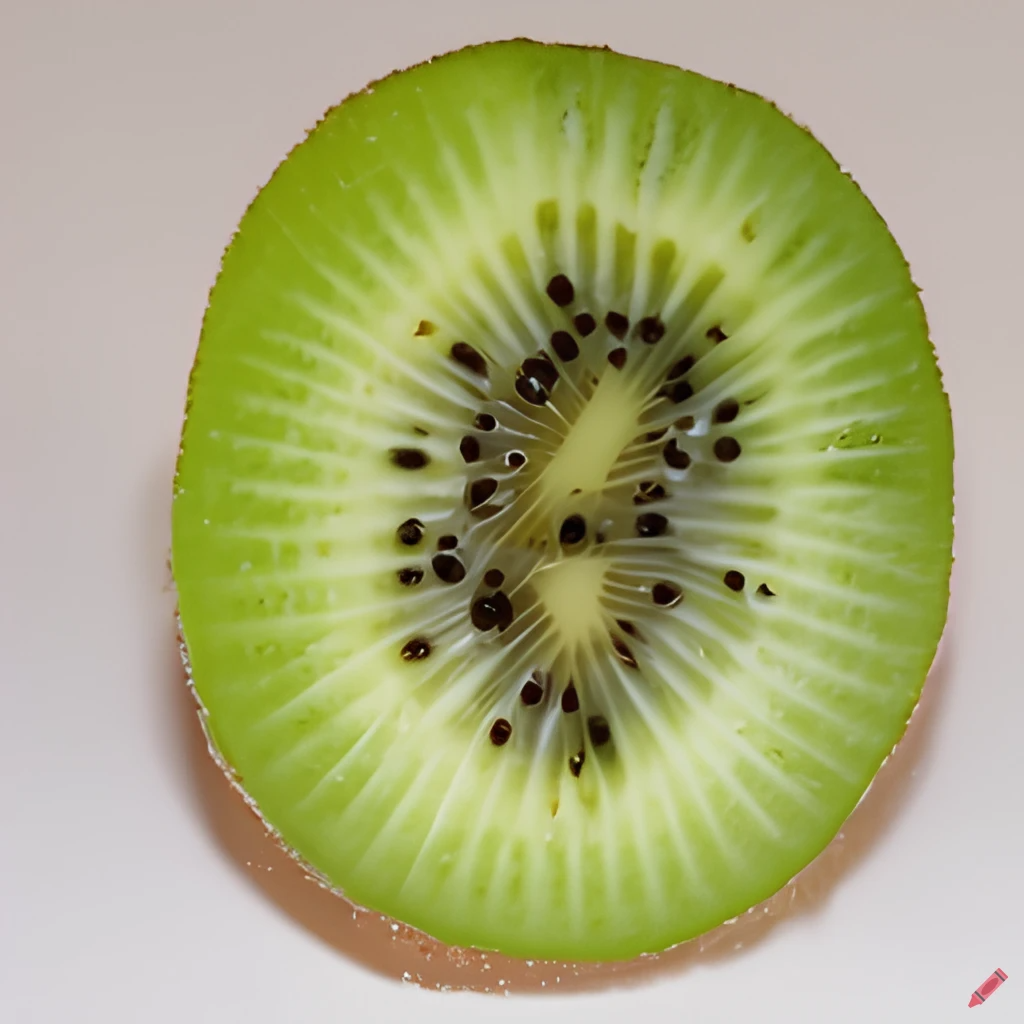Kiwi: (161, 0, 962, 1002)
